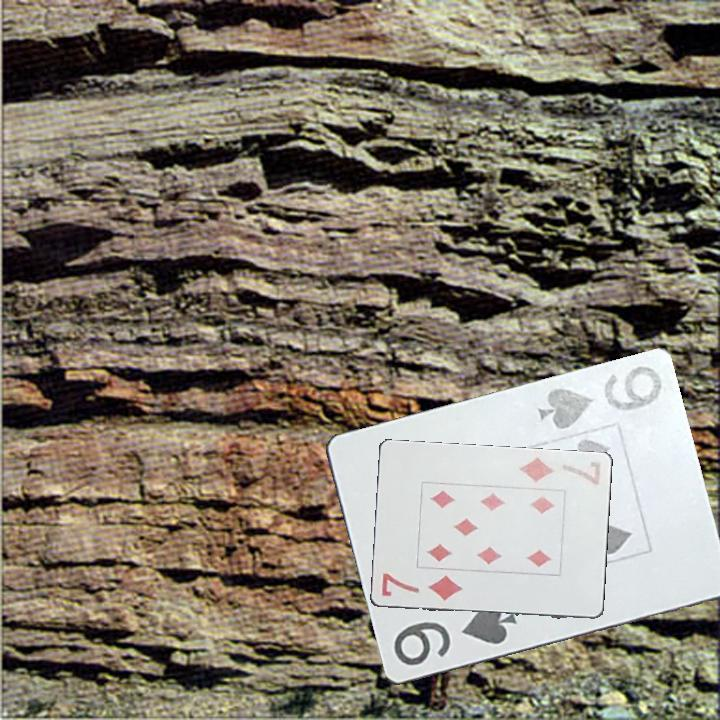7d: (515, 454, 603, 488), (378, 570, 465, 603)
9s: (534, 362, 665, 436), (389, 599, 520, 670)
